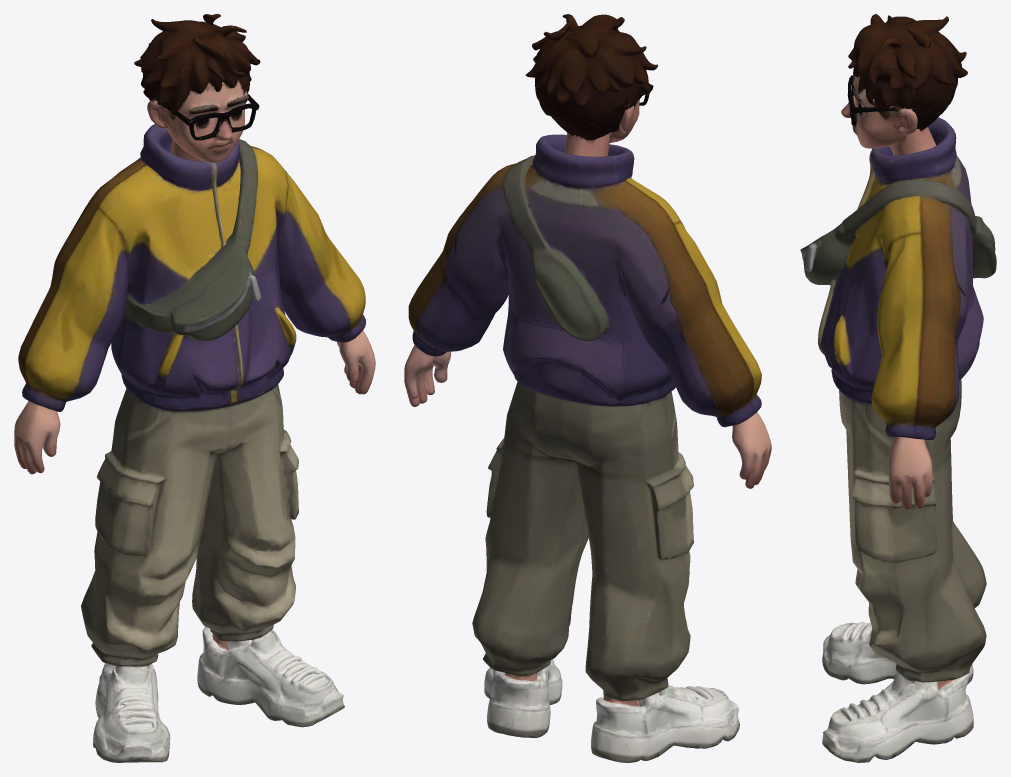
File: kalle.glb
3 views of the same model, side by side, from view 1: azimuth 30°, elevation 25°; view 2: azimuth 150°, elevation 25°; view 3: azimuth 270°, elevation 25° (orthographic). The views are drawn at different scales.
Visible parts, largest first — view 1: world; view 2: world; view 3: world.
Boxes of the visible parts, <box> form: world: <box>14,14,375,762</box>; world: <box>404,14,771,762</box>; world: <box>800,14,996,762</box>.
Size of the model in its own units: 0.5282 by 1 by 0.2583.
1 material, 1 textured.
